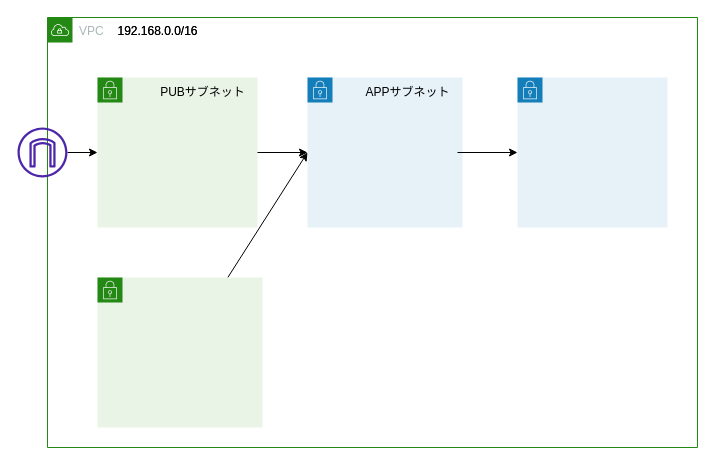
The diagram is 715 pixels wide and 465 high, and some of its shapes have lost their labels. The shapes that lost their labels are listed below. From the top down, each one's box as (x1, y1, x2, y2) in pixels, then its label:
(516, 76, 668, 228): DBサブネット
(96, 276, 262, 428): 踏み台サブネット
